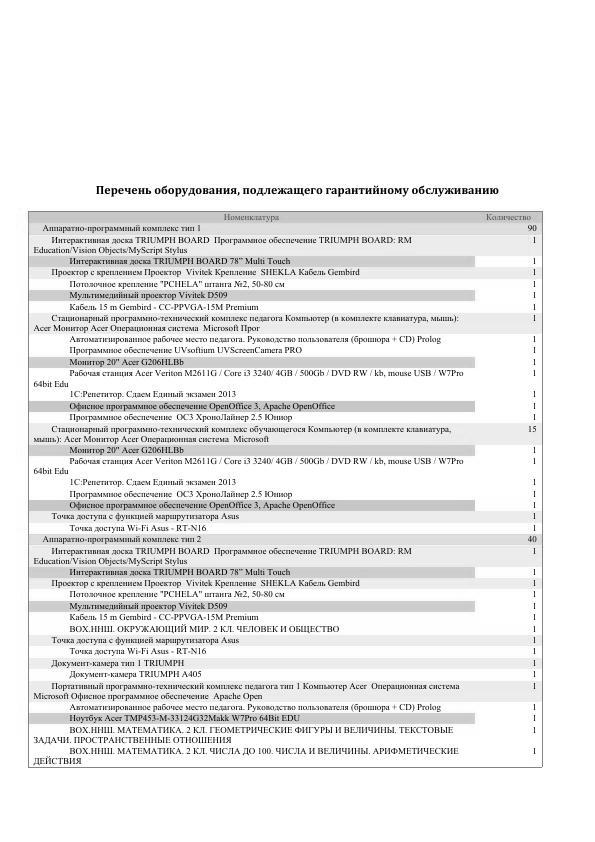table: (28, 211, 543, 767)
text: (94, 183, 500, 196)
